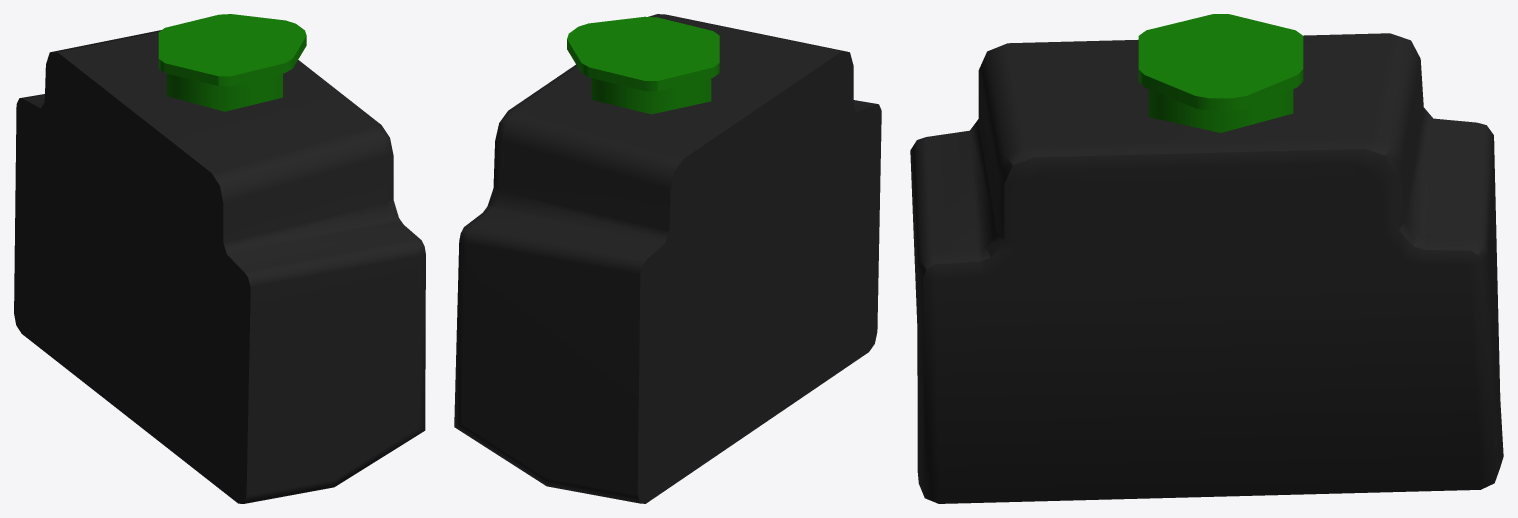
Rendered from reservatoriooleo.gltf.
3 views of the same model, side by side, from view 1: azimuth 30°, elevation 25°; view 2: azimuth 150°, elevation 25°; view 3: azimuth 270°, elevation 25° (orthographic). The views are drawn at different scales.
Parts seen in each view (by area): view 1: 5060e.040; view 2: 5060e.040; view 3: 5060e.040.
Boxes of the visible parts, box(x1,y1,x2,y2) form: 5060e.040: box(14, 14, 425, 503); 5060e.040: box(454, 14, 881, 503); 5060e.040: box(910, 14, 1503, 503).
Bounding box in the file's own units: 10.86 × 20.06 × 24.3.
